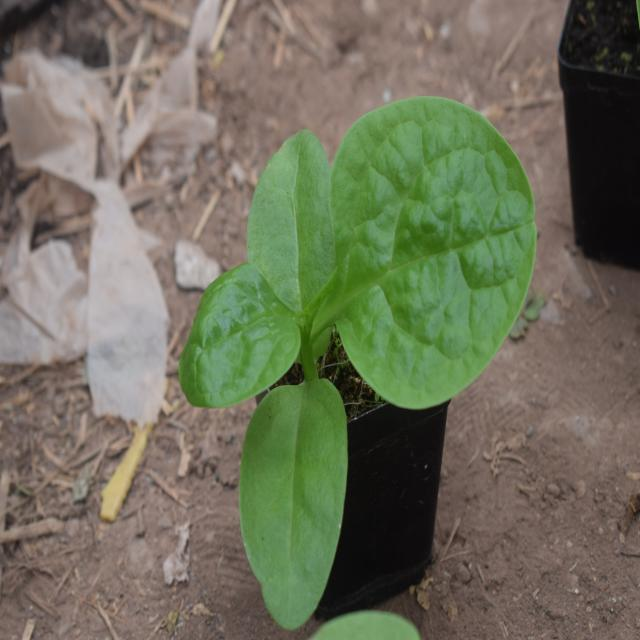Ceylon spinach: (182, 82, 534, 598)
